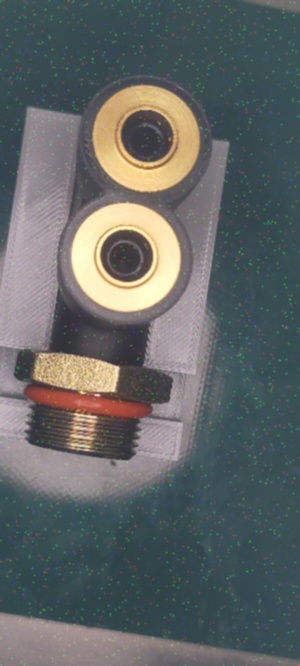white mark: (95, 348, 106, 360)
